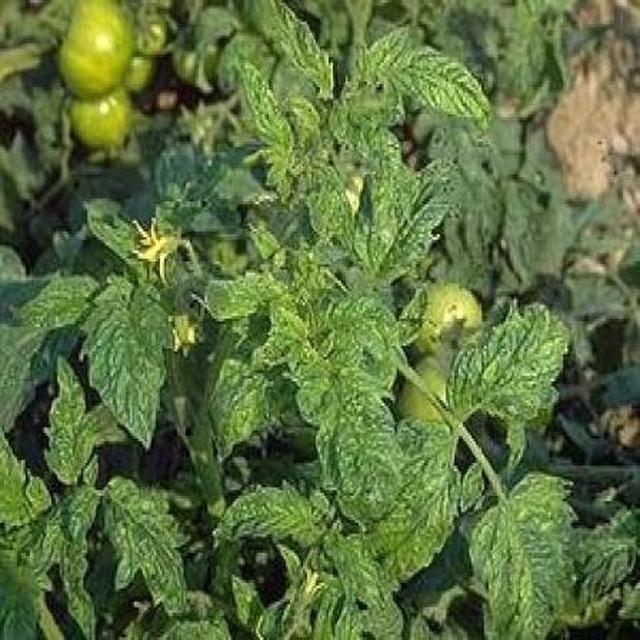Yellow Leaf Curl Virus: (100, 124, 640, 640)
